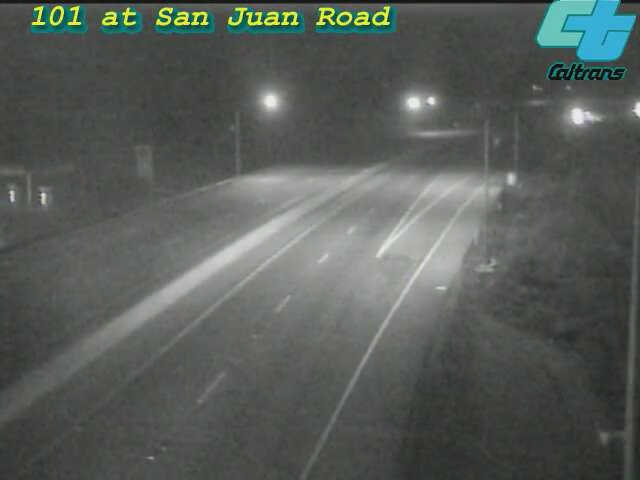vehicle: (569, 93, 619, 143), (552, 90, 602, 140)
